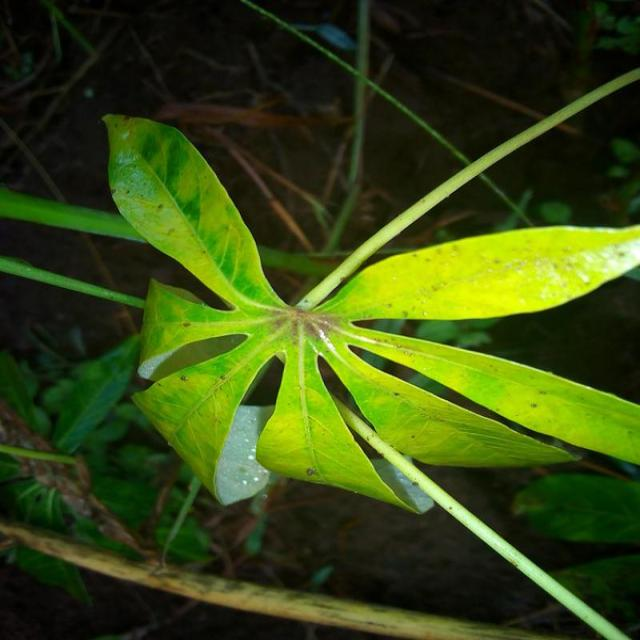cassava leaf: (101, 108, 640, 516)
